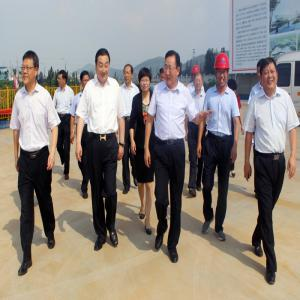none: (164, 49, 182, 87), (260, 57, 278, 94), (94, 48, 112, 83), (22, 51, 40, 86), (138, 65, 154, 94), (124, 64, 135, 86), (194, 72, 204, 92), (81, 71, 92, 89), (257, 59, 265, 83), (58, 71, 67, 88), (159, 67, 166, 83)
red: (214, 53, 230, 86), (193, 63, 200, 80)
